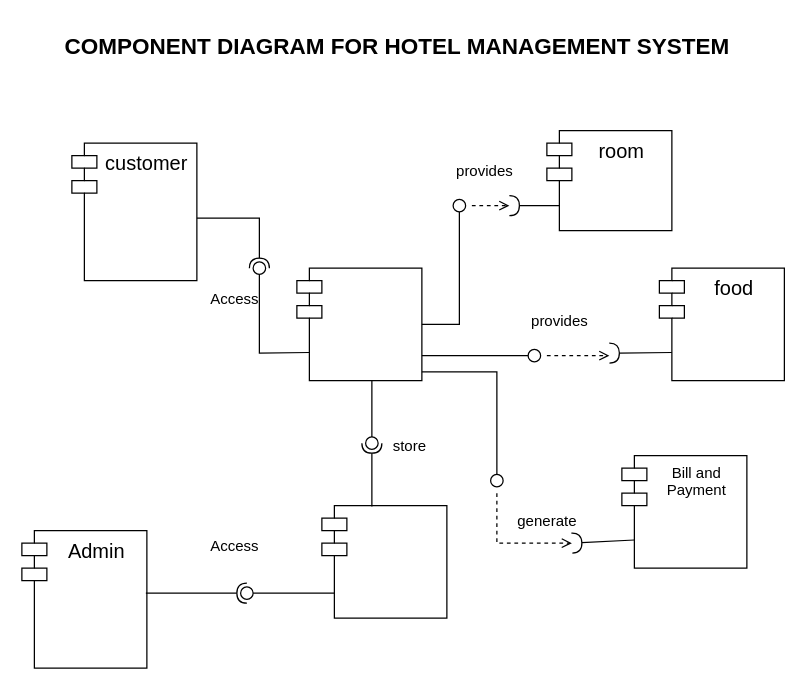
This 806x690 diagram has some shape labels left out. The shapes that lost their labels are listed below. From the top down, each one's centre as x and y in pixels, then its label:
At point (359, 324): "Website".
At point (384, 561): "Datebase".
